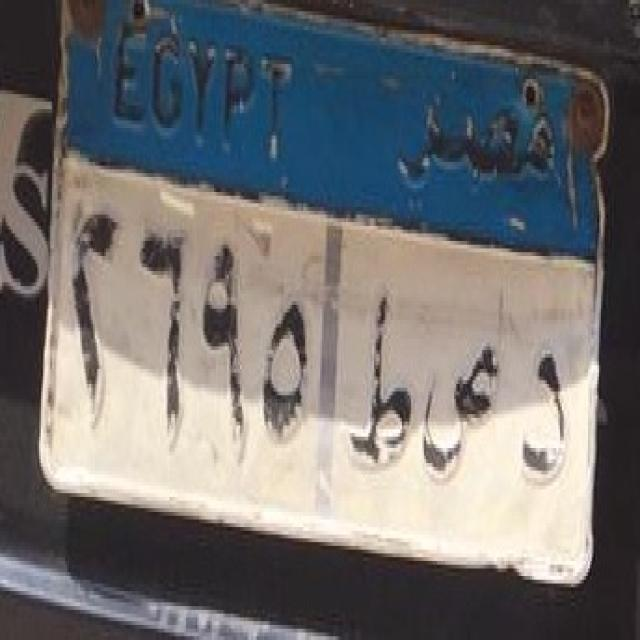2: (67, 193, 126, 437)
5: (256, 288, 317, 444)
6: (126, 218, 200, 458)
9: (193, 239, 256, 462)
Saad: (417, 307, 500, 509)
Taa: (340, 288, 424, 490)
daal: (519, 326, 578, 498)
